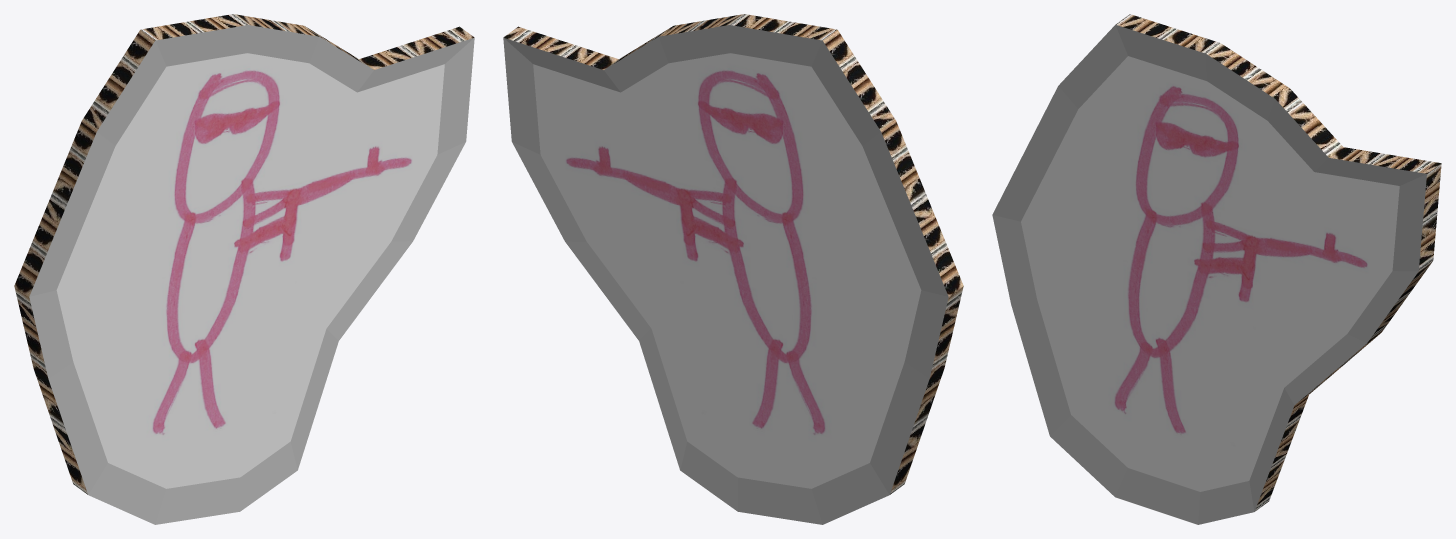
File: CoolGuy.fbx
The picture shows the model from 3 angles, left to right: view 1: azimuth 30°, elevation 25°; view 2: azimuth 150°, elevation 25°; view 3: azimuth 330°, elevation 25°; orthographic projection. The views are drawn at different scales.
Visible parts, largest first — view 1: CoolGuy; view 2: CoolGuy; view 3: CoolGuy.
Part boxes in pixels (x1,y1,x2,y2): CoolGuy: (14,14,474,524); CoolGuy: (503,14,963,524); CoolGuy: (992,14,1441,524).
Size of the model in its own units: 201 by 213 by 11.73.
